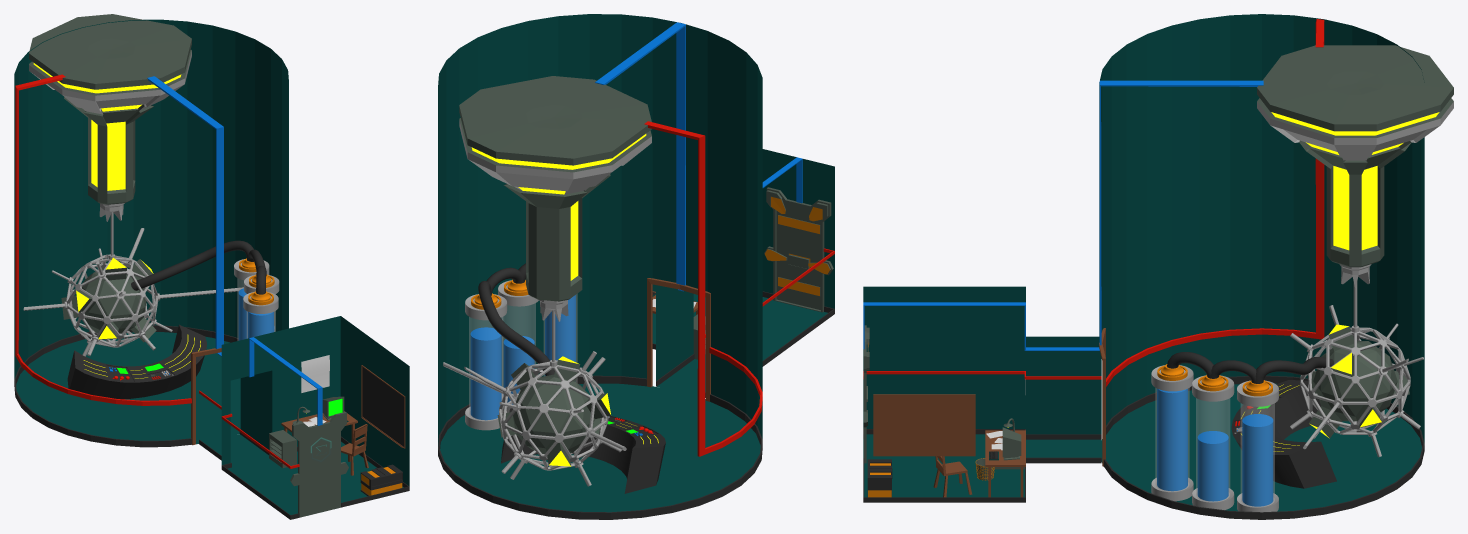
Rendered from Reactor_Room.glb.
The picture shows the model from 3 angles, left to right: view 1: azimuth 30°, elevation 25°; view 2: azimuth 150°, elevation 25°; view 3: azimuth 270°, elevation 25°; orthographic projection. The views are drawn at different scales.
Parts seen in each view (by area): view 1: Room002, Room001, Turbine, Reactor_Support, Console, Porte, Reactor_Core, Blue_Wire002, Red_Wire002, Tableau, Cylinder.009, Cuve.001 (+11 smaller); view 2: Room002, Turbine, Room001, Reactor_Support, Porte, Reactor_Core, Cylinder.009, Cuve.002, Red_Wire002, Console, Blue_Wire002, Cylinder.012 (+8 smaller); view 3: Room002, Room001, Turbine, Tableau, Reactor_Support, Cuve.001, Console, Cuve.003, Reactor_Core, Cuve.002, Cylinder.009, Red_Wire002 (+12 smaller).
Boxes of the visible parts, x1,y1,x2,y2 form: Room002: [14, 19, 288, 444]; Room001: [204, 316, 409, 514]; Turbine: [29, 14, 191, 221]; Reactor_Support: [23, 212, 243, 356]; Console: [67, 324, 206, 399]; Porte: [290, 412, 348, 517]; Reactor_Core: [61, 257, 156, 342]; Blue_Wire002: [147, 76, 223, 348]; Red_Wire002: [15, 74, 191, 405]; Tableau: [361, 365, 405, 448]; Cylinder.009: [14, 325, 238, 447]; Cuve.001: [243, 291, 278, 338]; Room002: [438, 14, 762, 512]; Turbine: [459, 76, 651, 321]; Room001: [652, 149, 834, 396]; Reactor_Support: [443, 310, 626, 486]; Porte: [764, 187, 833, 312]; Reactor_Core: [497, 356, 611, 466]; Cylinder.009: [438, 375, 762, 519]; Cuve.002: [465, 293, 507, 430]; Red_Wire002: [644, 121, 762, 456]; Console: [501, 408, 665, 493]; Blue_Wire002: [595, 22, 685, 285]; Cylinder.012: [470, 327, 501, 420]; Room002: [1099, 14, 1424, 511]; Room001: [863, 286, 1101, 497]; Turbine: [1257, 45, 1453, 287]; Tableau: [873, 394, 975, 456]; Reactor_Support: [1290, 282, 1423, 457]; Cuve.001: [1151, 364, 1193, 501]; Console: [1231, 380, 1336, 488]; Cuve.003: [1192, 375, 1234, 509]; Reactor_Core: [1308, 324, 1409, 438]; Cuve.002: [1237, 380, 1278, 512]; Cylinder.009: [1103, 375, 1424, 519]; Red_Wire002: [1106, 19, 1324, 386].
Size of the model in its own units: 8 by 10.01 by 14.53.
